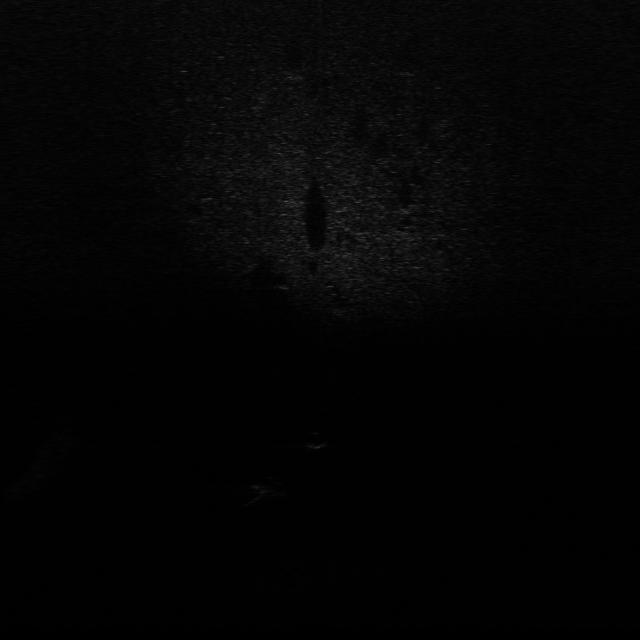ball: (306, 430, 326, 450)
square cage: (243, 480, 287, 500)
